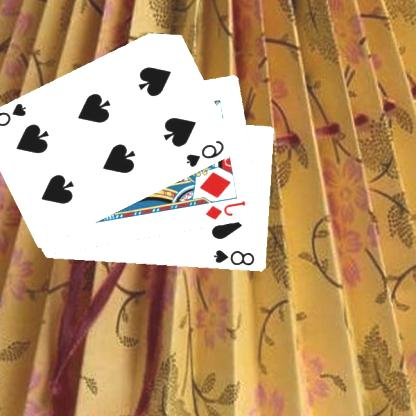6S: (185, 137, 228, 169), (0, 100, 30, 132)
8S: (213, 247, 258, 267)
JD: (204, 198, 249, 222)
